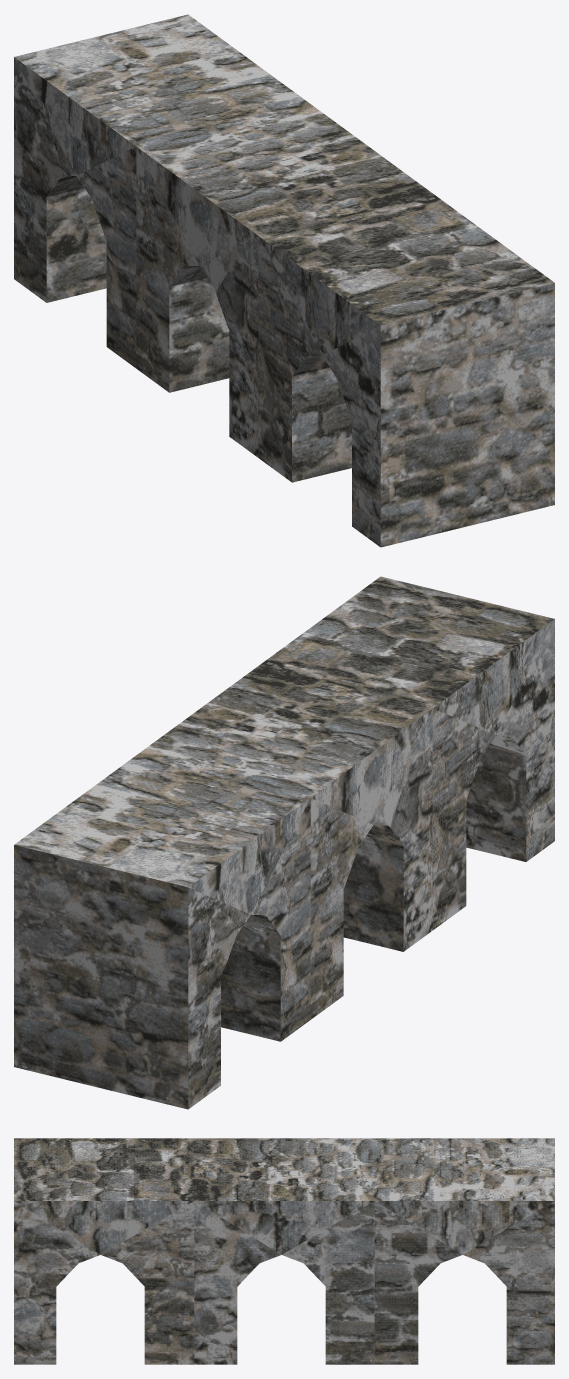
File: bridge.fbx
3 renders of one model, top to bottom at view 1: azimuth 30°, elevation 25°; view 2: azimuth 150°, elevation 25°; view 3: azimuth 270°, elevation 25°, orthographic. The views are drawn at different scales.
Visible parts, largest first — view 1: Cube; view 2: Cube; view 3: Cube.
Part boxes in pixels (x1,y1,x2,y2): Cube: (14,14,554,547); Cube: (14,576,554,1109); Cube: (14,1138,554,1364).
Bounding box in the file's own units: 674 × 821 × 2458.
